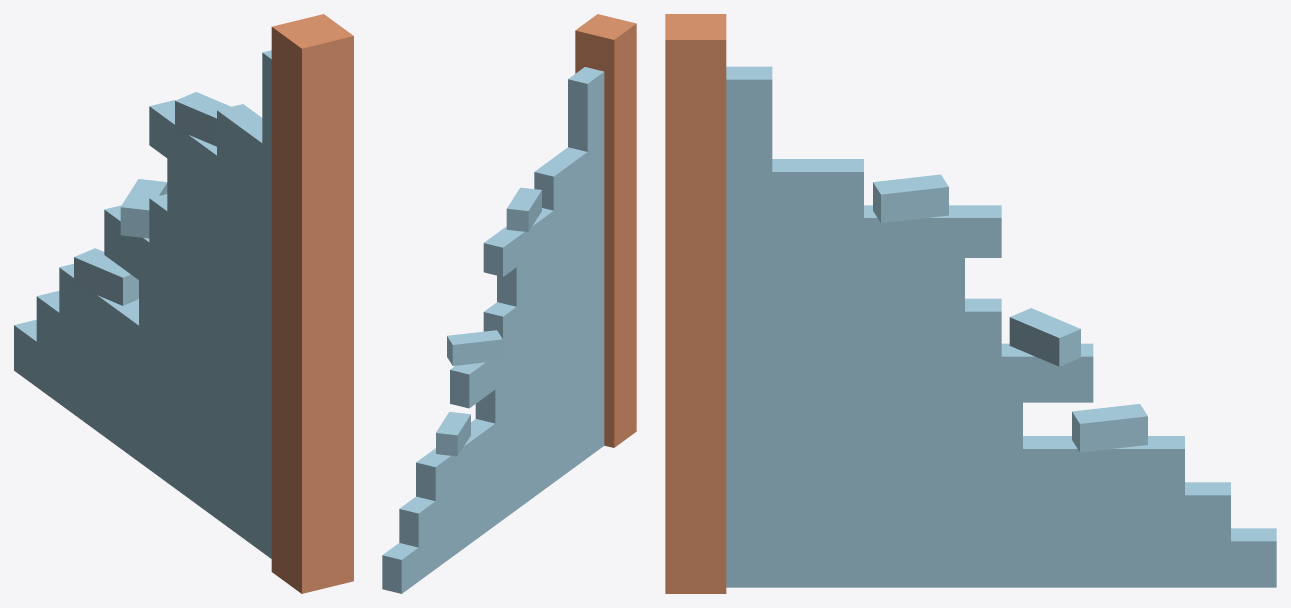
File: wallBroken.fbx
3 renders of one model, left to right at view 1: azimuth 30°, elevation 25°; view 2: azimuth 150°, elevation 25°; view 3: azimuth 270°, elevation 25°, orthographic. The views are drawn at different scales.
Visible parts, largest first — view 1: wallBroken; view 2: wallBroken; view 3: wallBroken.
Part boxes in pixels (x1,y1,x2,y2): wallBroken: (14,14,353,593); wallBroken: (382,14,636,593); wallBroken: (665,14,1276,593).
Bounding box in the file's own units: 1.17 × 10 × 10.
